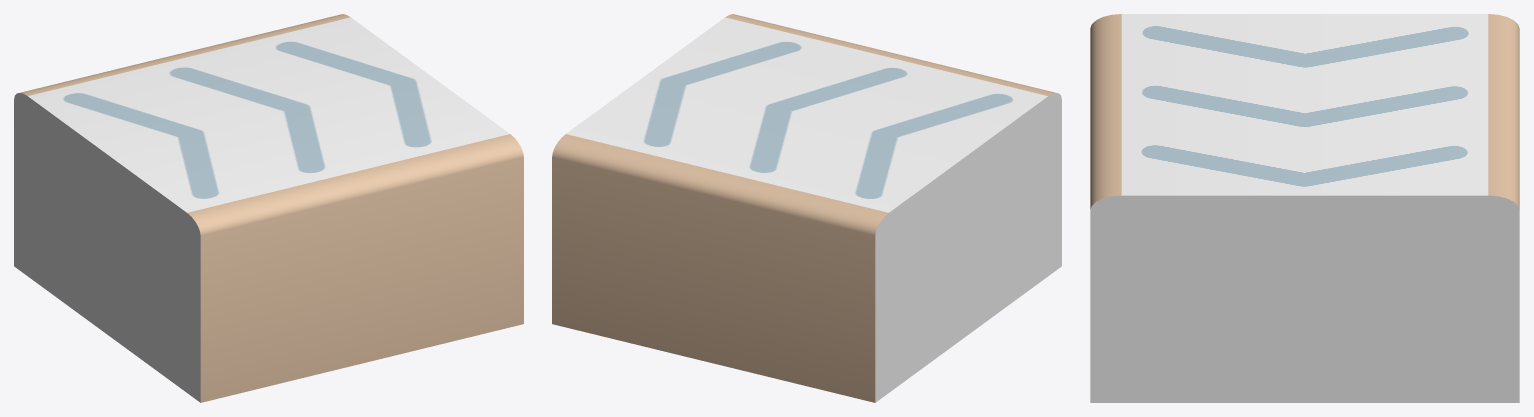
Rendered from runnerPlatform.fbx.
3 views of the same model, side by side, from view 1: azimuth 30°, elevation 25°; view 2: azimuth 150°, elevation 25°; view 3: azimuth 270°, elevation 25° (orthographic). The views are drawn at different scales.
Visible parts, largest first — view 1: Cube; view 2: Cube; view 3: Cube.
Part boxes in pixels (x1,y1,x2,y2): Cube: (14,14,523,402); Cube: (552,14,1061,402); Cube: (1090,14,1519,402).
Bounding box in the file's own units: 379 × 202 × 379.
